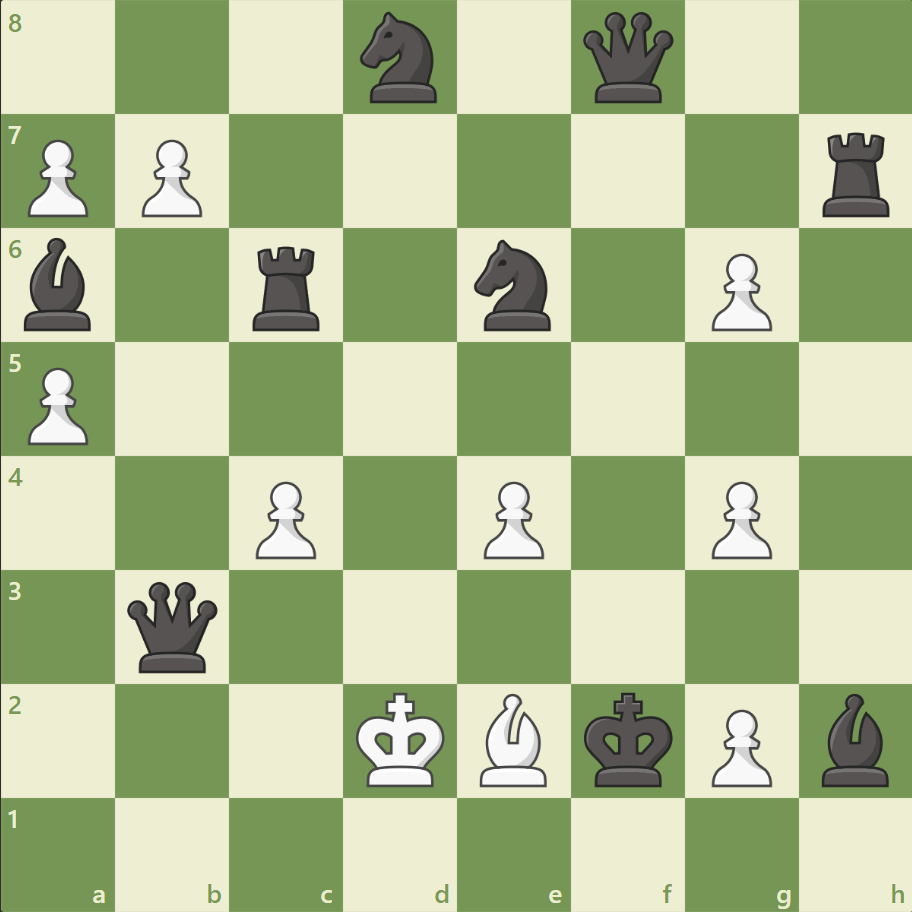B: (471, 687, 555, 790)
K: (351, 685, 451, 793)
P: (20, 132, 95, 223), (133, 132, 208, 223), (701, 246, 776, 337), (20, 359, 95, 450), (247, 473, 322, 564), (474, 473, 549, 564), (701, 473, 776, 564), (701, 700, 776, 791)
b: (17, 233, 101, 336), (812, 687, 896, 790)
k: (579, 685, 679, 793)
n: (351, 7, 449, 110), (465, 234, 562, 337)
q: (124, 576, 223, 676), (578, 9, 677, 108)
r: (814, 125, 897, 222), (246, 239, 329, 336)
